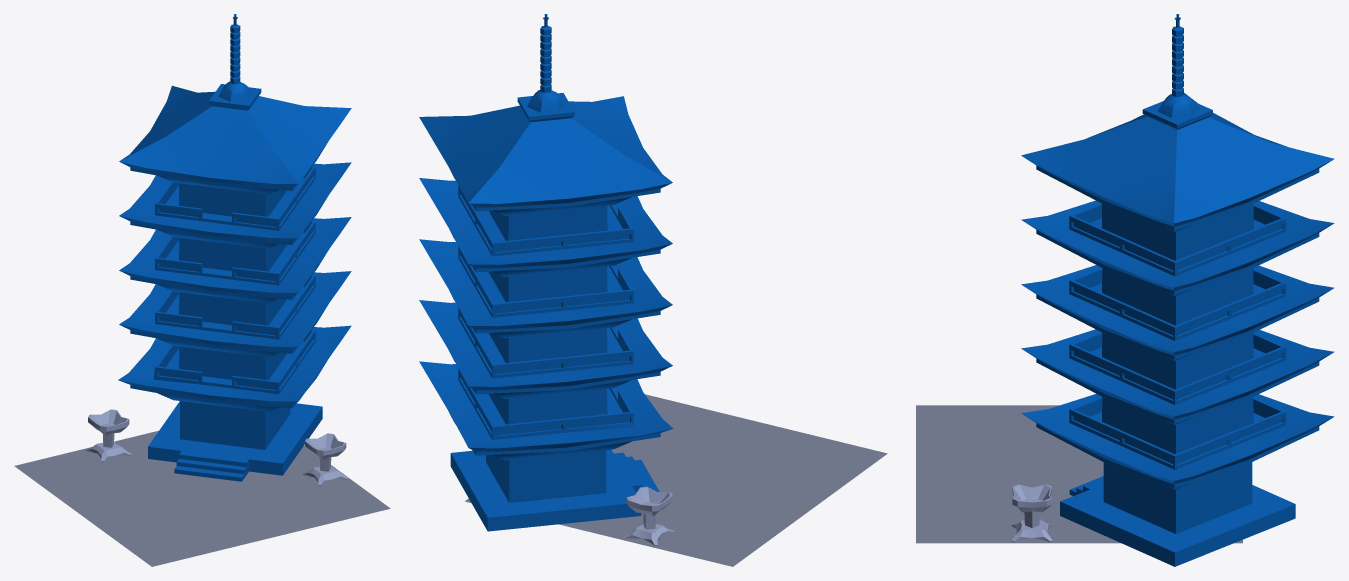
Rendered from SM_church_north.fbx.
The picture shows the model from 3 angles, left to right: view 1: azimuth 30°, elevation 25°; view 2: azimuth 150°, elevation 25°; view 3: azimuth 270°, elevation 25°; orthographic projection. The views are drawn at different scales.
Parts seen in each view (by area): view 1: SM_church_north01; view 2: SM_church_north01; view 3: SM_church_north01.
Part boxes in pixels (<box>): SM_church_north01: <box>14,14,390,566</box>; SM_church_north01: <box>419,14,887,566</box>; SM_church_north01: <box>916,14,1334,566</box>.
Size of the model in its own units: 646 by 848 by 641.
